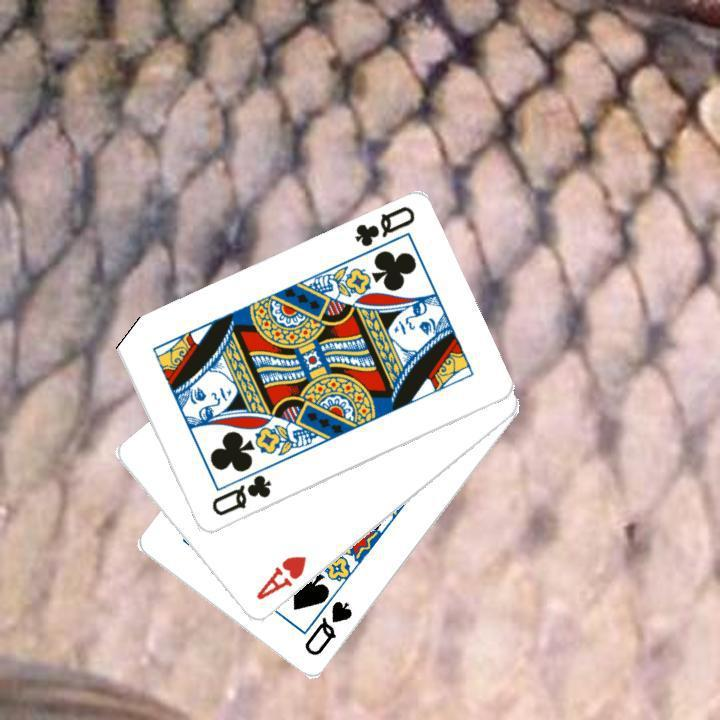A: (251, 551, 309, 603)
Q: (300, 597, 355, 659), (350, 202, 417, 250), (207, 471, 273, 519)
